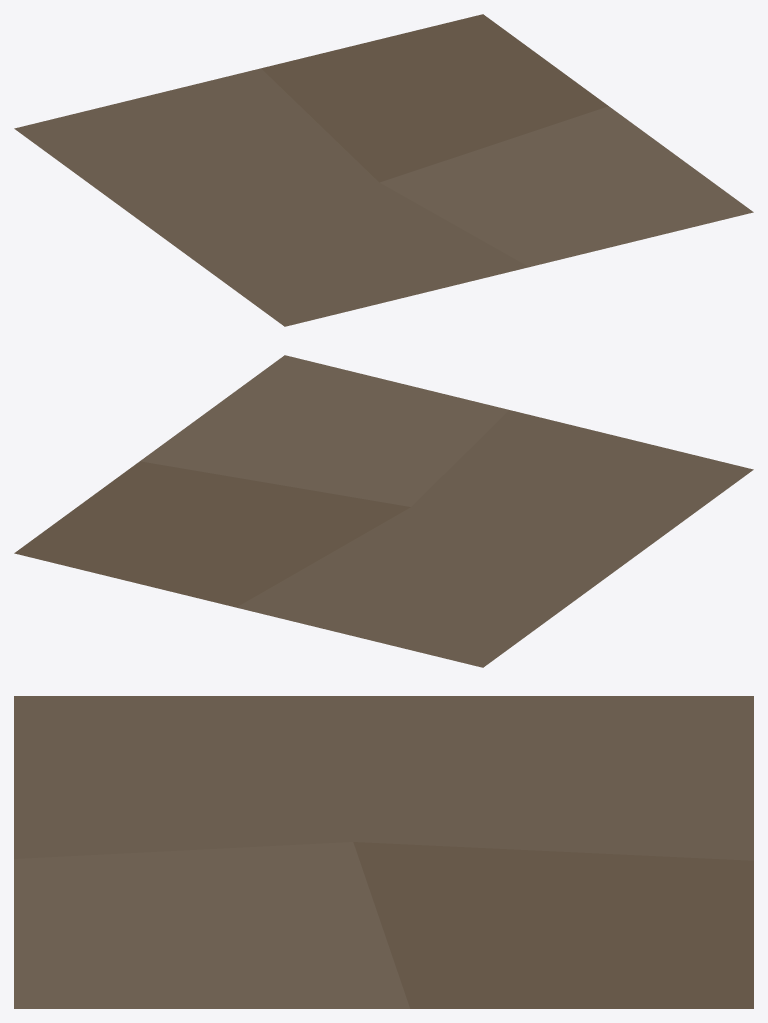
File: floor_dirt_2m.glb
The picture shows the model from 3 angles, top to bottom: view 1: azimuth 30°, elevation 25°; view 2: azimuth 150°, elevation 25°; view 3: azimuth 270°, elevation 25°; orthographic projection. The views are drawn at different scales.
Visible parts, largest first — view 1: Body_floor_dirt_2m.001; view 2: Body_floor_dirt_2m.001; view 3: Body_floor_dirt_2m.001.
Boxes of the visible parts, <box> form: Body_floor_dirt_2m.001: <box>14,14,753,326</box>; Body_floor_dirt_2m.001: <box>14,355,753,667</box>; Body_floor_dirt_2m.001: <box>14,696,753,1008</box>.
Size of the model in its own units: 2 by 0 by 2.
